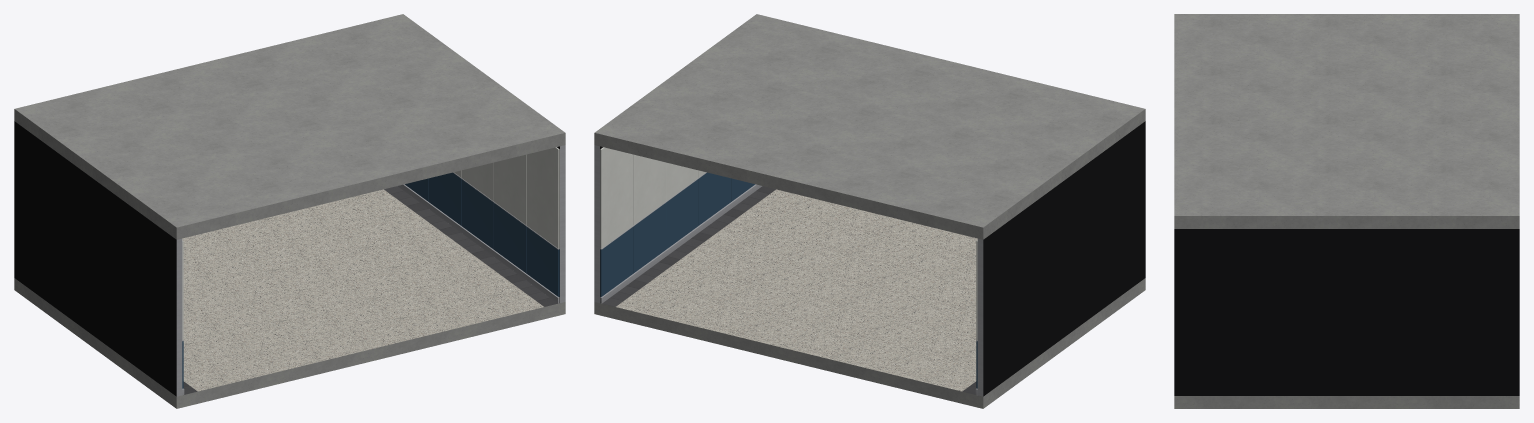
The model's file is gteki_passage_straight_w8_l6.glb.
3 renders of one model, left to right at view 1: azimuth 30°, elevation 25°; view 2: azimuth 150°, elevation 25°; view 3: azimuth 270°, elevation 25°, orthographic. The views are drawn at different scales.
Parts seen in each view (by area): view 1: VIS_ceiling, VIS_floor, VIS_walls; view 2: VIS_ceiling, VIS_floor, VIS_walls; view 3: VIS_ceiling, VIS_walls, VIS_floor.
Part boxes in pixels (<box>): VIS_ceiling: <box>14,14,565,239</box>; VIS_floor: <box>14,186,565,408</box>; VIS_walls: <box>14,121,565,396</box>; VIS_ceiling: <box>594,14,1145,239</box>; VIS_floor: <box>594,186,1145,408</box>; VIS_walls: <box>594,121,1145,396</box>; VIS_ceiling: <box>1174,14,1519,228</box>; VIS_walls: <box>1174,229,1519,395</box>; VIS_floor: <box>1174,396,1519,408</box>.
Size of what is drawn, in the model's own units: 8.3 by 3.7 by 6.
10 materials, 6 textured.
